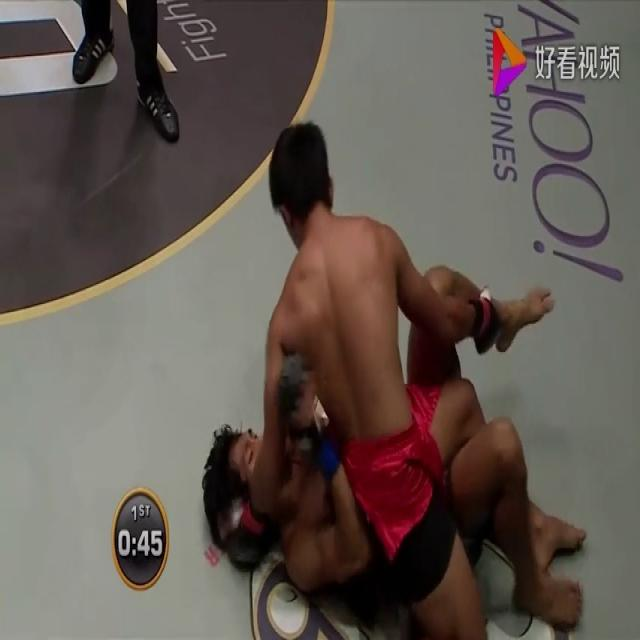fight: (191, 111, 585, 639)
